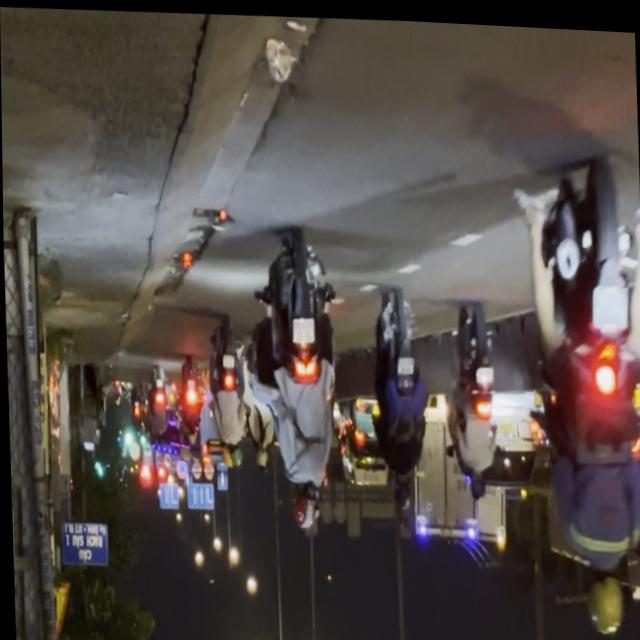helmet: (582, 552, 625, 630), (290, 480, 317, 527)
licenseplate: (516, 145, 640, 635), (253, 225, 344, 531)
nohelmet: (590, 278, 628, 322), (292, 314, 313, 341)
